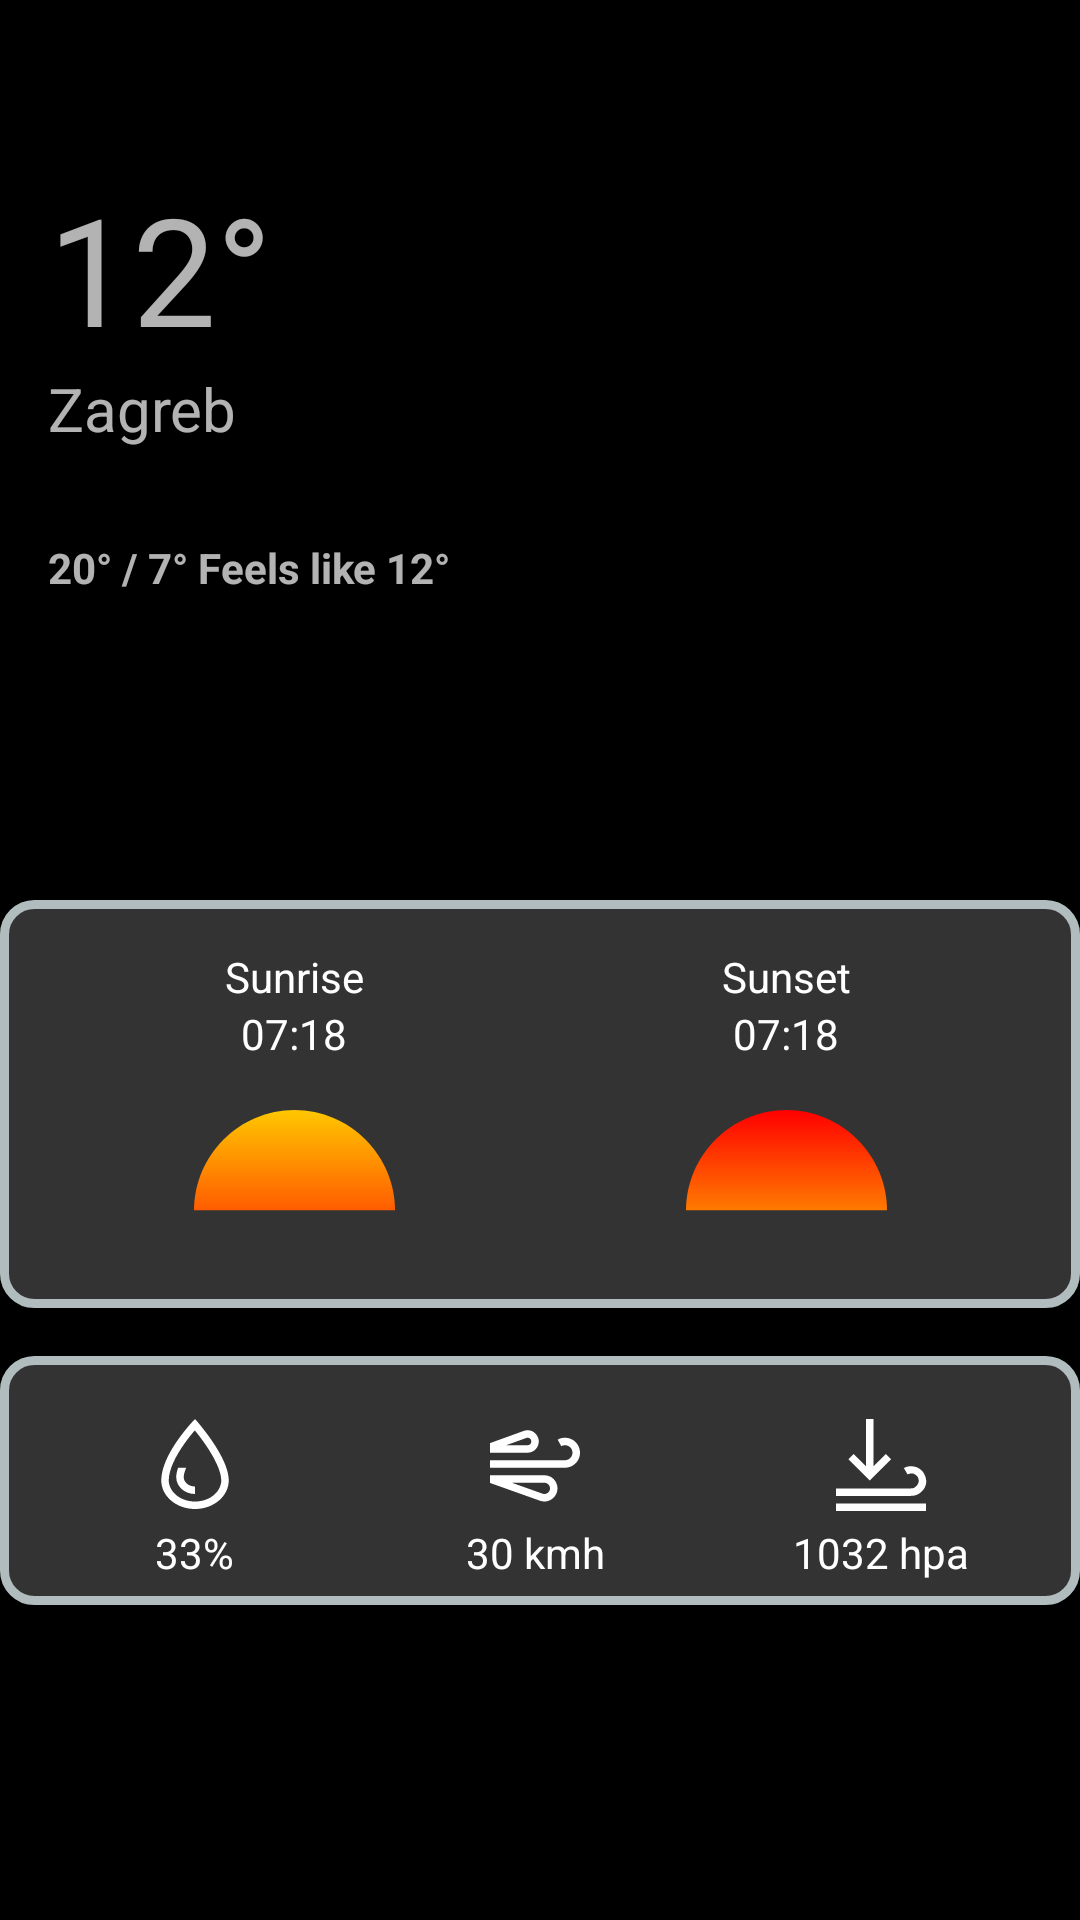

Named icons in this screenshot (1080px×1920px) and their centers, (x=x, y=y):
humidity: (x=195, y=1464)
pressure: (x=881, y=1465)
wind: (x=535, y=1466)
